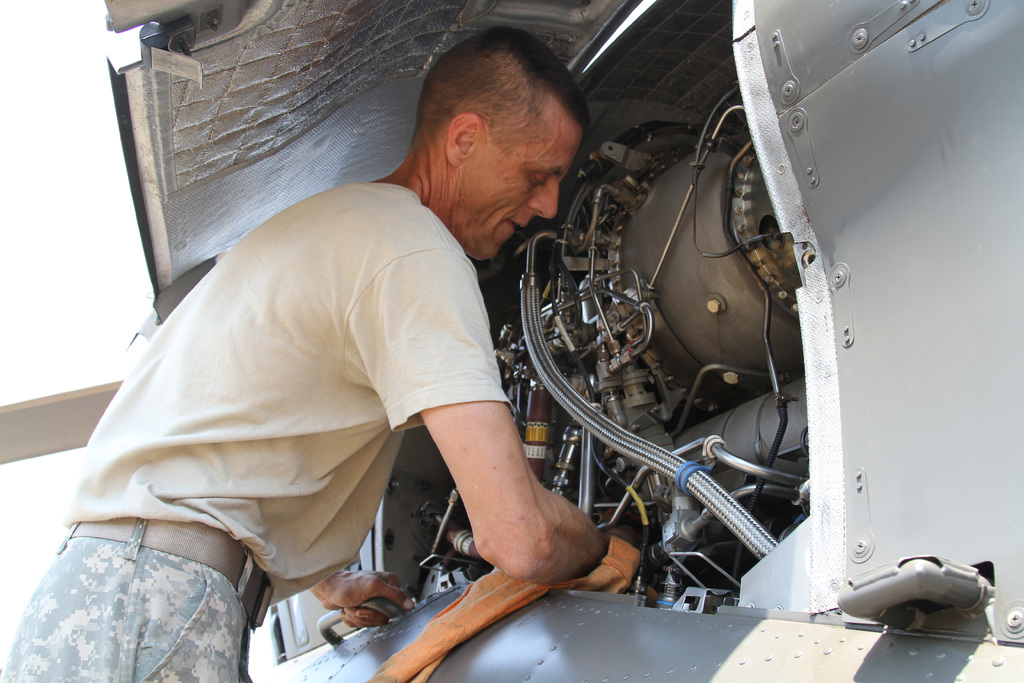Person: (0, 25, 638, 682)
